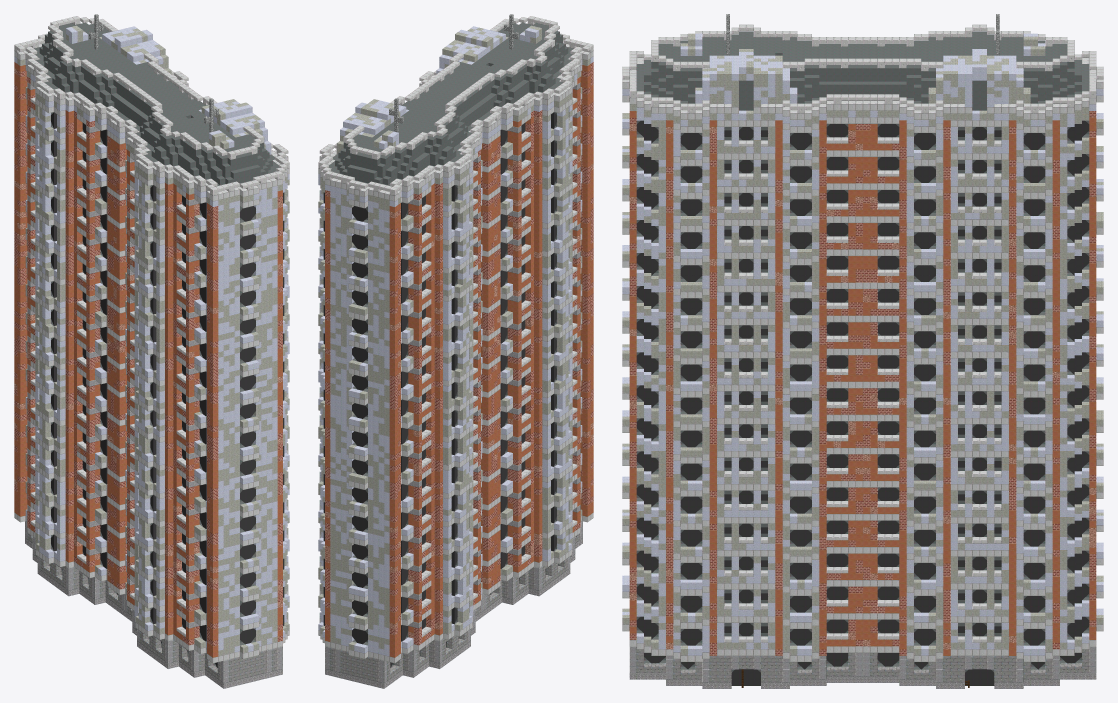
Rendered from res1_o.glb.
The picture shows the model from 3 angles, left to right: view 1: azimuth 30°, elevation 25°; view 2: azimuth 150°, elevation 25°; view 3: azimuth 270°, elevation 25°; orthographic projection. The views are drawn at different scales.
Visible parts, largest first — view 1: Object_2, Object_10; view 2: Object_2, Object_10; view 3: Object_2, Object_10.
Part boxes in pixels (box(x1,y1,x2,y2)): Object_2: box(14, 14, 289, 688); Object_10: box(51, 112, 284, 667); Object_2: box(318, 14, 593, 688); Object_10: box(323, 112, 556, 667); Object_2: box(622, 14, 1103, 688); Object_10: box(636, 120, 1089, 685).
Size of the model in its own units: 0.2222 by 0.9899 by 0.6666.
Materials: 2 (2 with a texture image).
